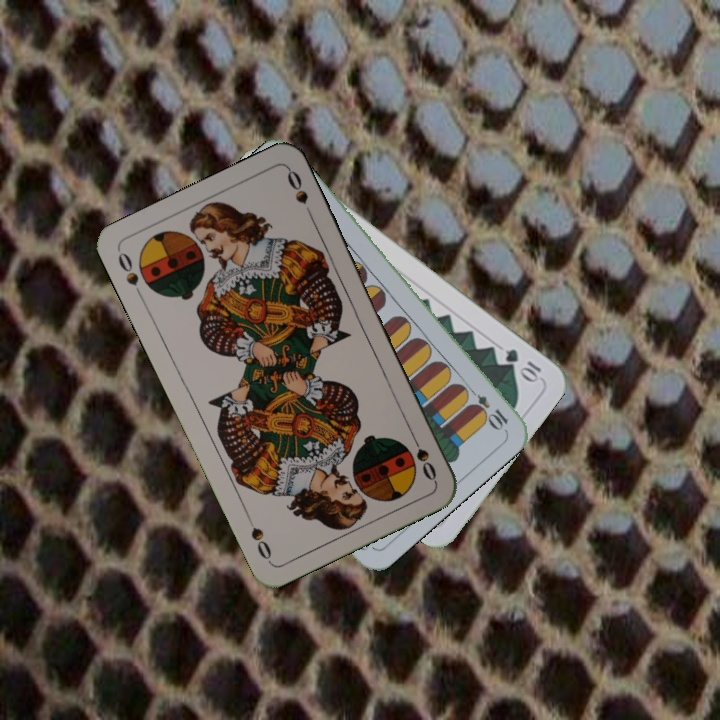E10: (462, 382, 511, 432)
G10: (501, 344, 544, 384)
SO: (406, 428, 439, 484), (114, 248, 146, 303)
